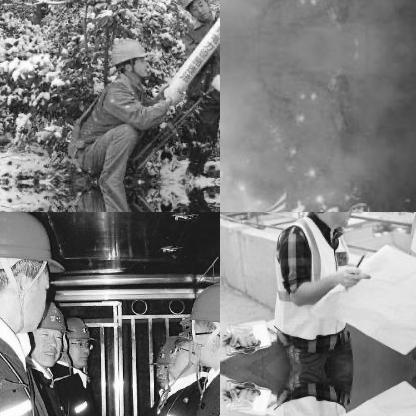Helmet: (0, 212, 63, 333), (181, 274, 219, 369), (18, 301, 66, 367), (104, 33, 152, 82), (162, 328, 206, 378), (145, 343, 181, 391), (62, 313, 92, 369), (177, 0, 211, 22), (306, 212, 364, 224)
